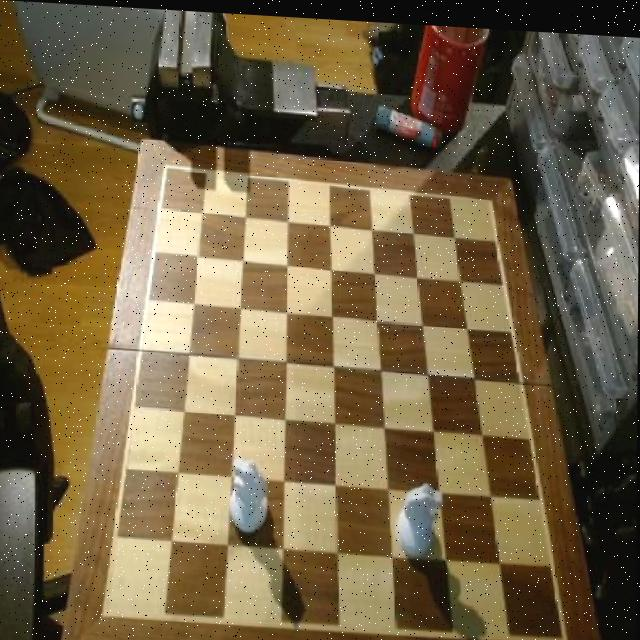white-king: (396, 476, 444, 558), (226, 457, 270, 537)
